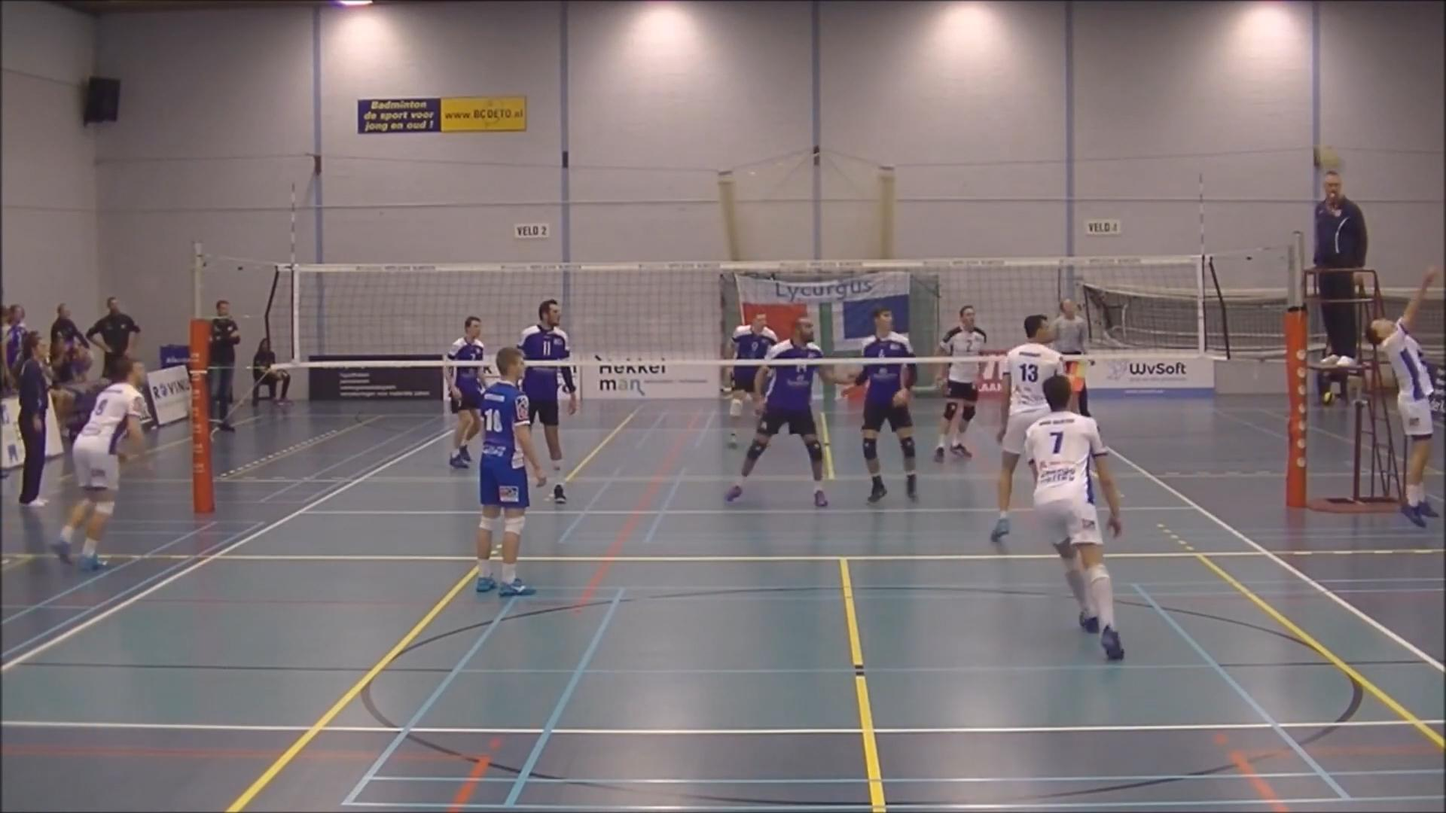difesa: (1364, 263, 1443, 529)
